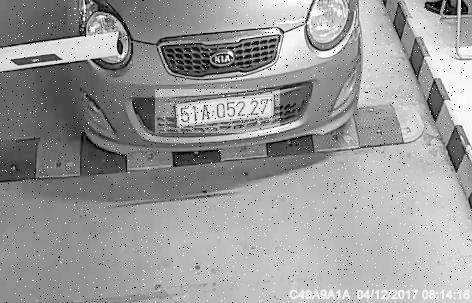License-plate: (156, 90, 281, 134)
